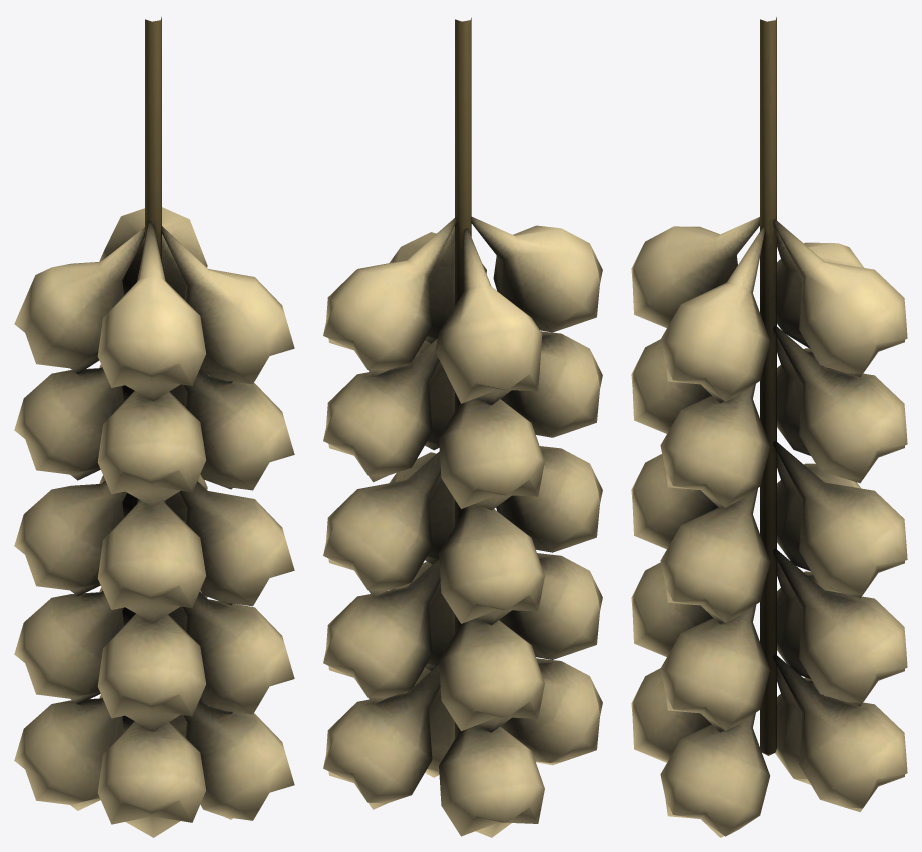
The model's file is garlic_long.glb.
3 views of the same model, side by side, from view 1: azimuth 30°, elevation 25°; view 2: azimuth 150°, elevation 25°; view 3: azimuth 270°, elevation 25° (orthographic).
Visible parts, largest first — view 1: fc_k_garlic_long.smd; view 2: fc_k_garlic_long.smd; view 3: fc_k_garlic_long.smd.
Boxes of the visible parts, <box> form: fc_k_garlic_long.smd: <box>14,17,294,837</box>; fc_k_garlic_long.smd: <box>323,17,602,837</box>; fc_k_garlic_long.smd: <box>631,17,907,837</box>.
Size of the model in its own units: 0.1984 by 0.7462 by 0.2352.
Materials: 1 (1 with a texture image).
